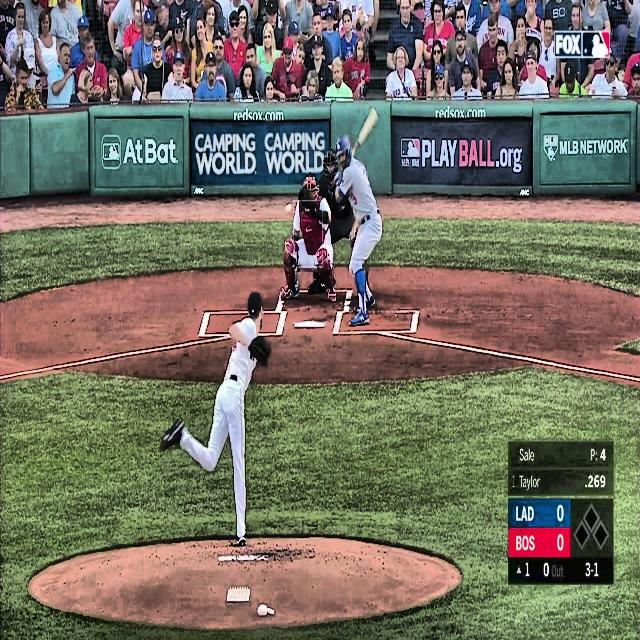baseball: (285, 204, 292, 214)
